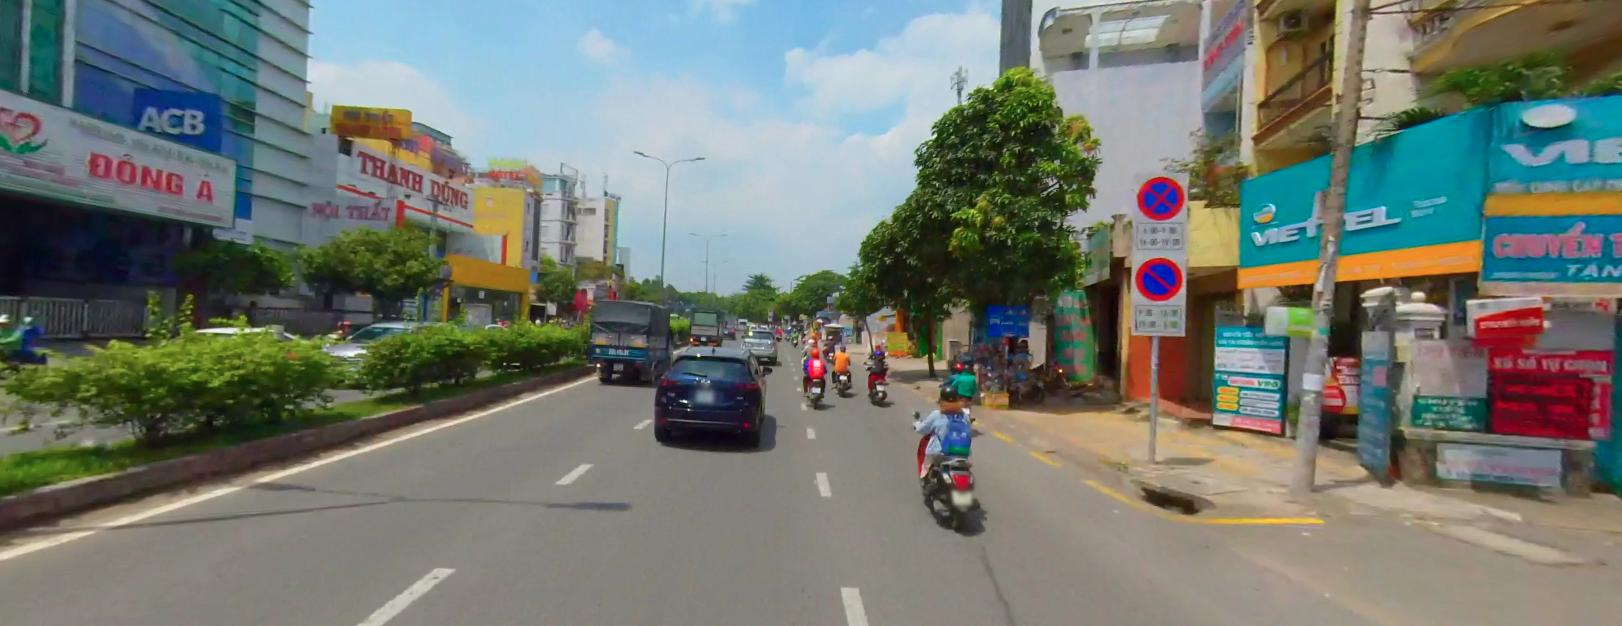Cam dung va do: (1133, 255, 1185, 300), (1136, 174, 1184, 218)
